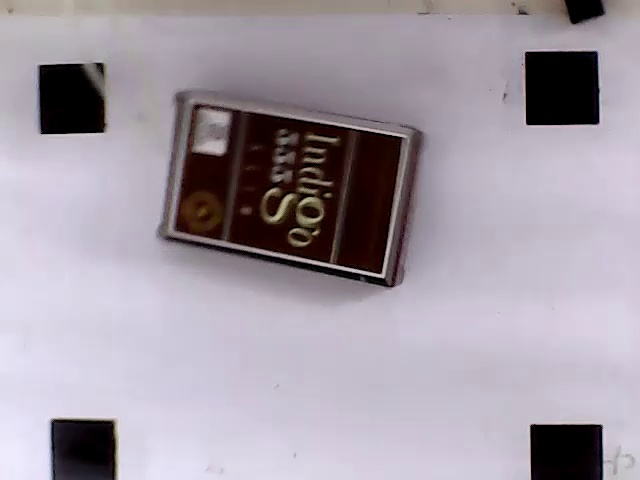BEX: (170, 102, 406, 275)
